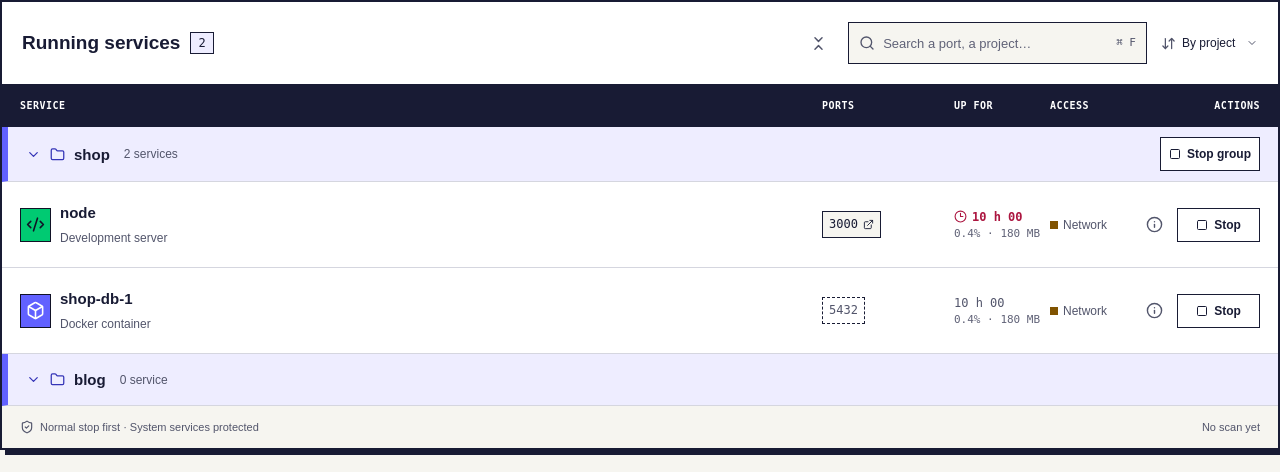
Test: Groupe de projet › replie et déplie un groupe, puis tous les groupes
Expected: the button "shop-db-1" is shown, [60, 288, 810, 309]
Click the button "shop 2 services" at (92, 154), box [26, 146, 1151, 162]
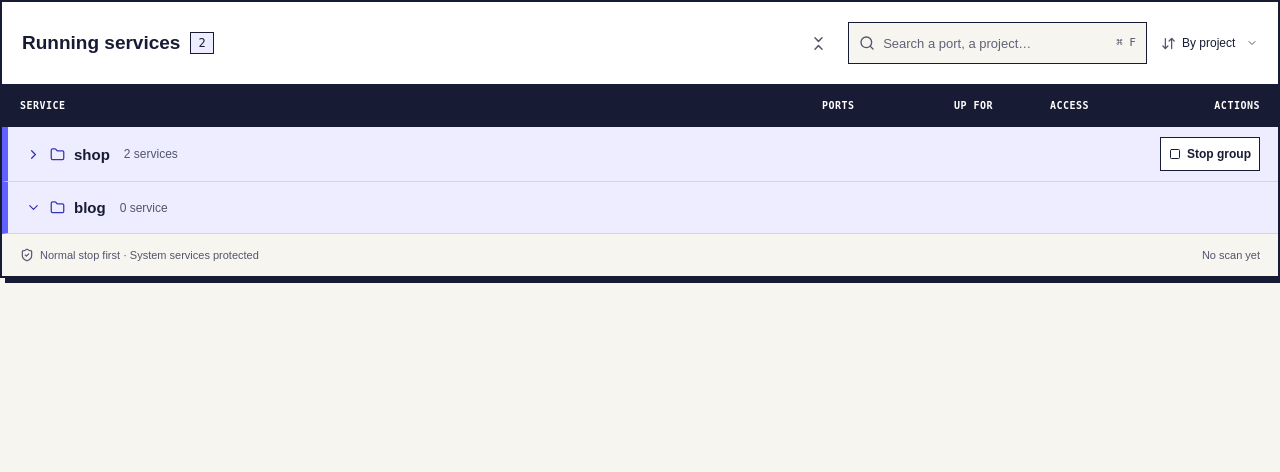
Now the button "shop 2 services" is collapsed, box [26, 146, 1151, 162]
Now the button "shop-db-1" is gone
Click the button named "Collapse all groups" at (818, 43), box [802, 26, 834, 60]
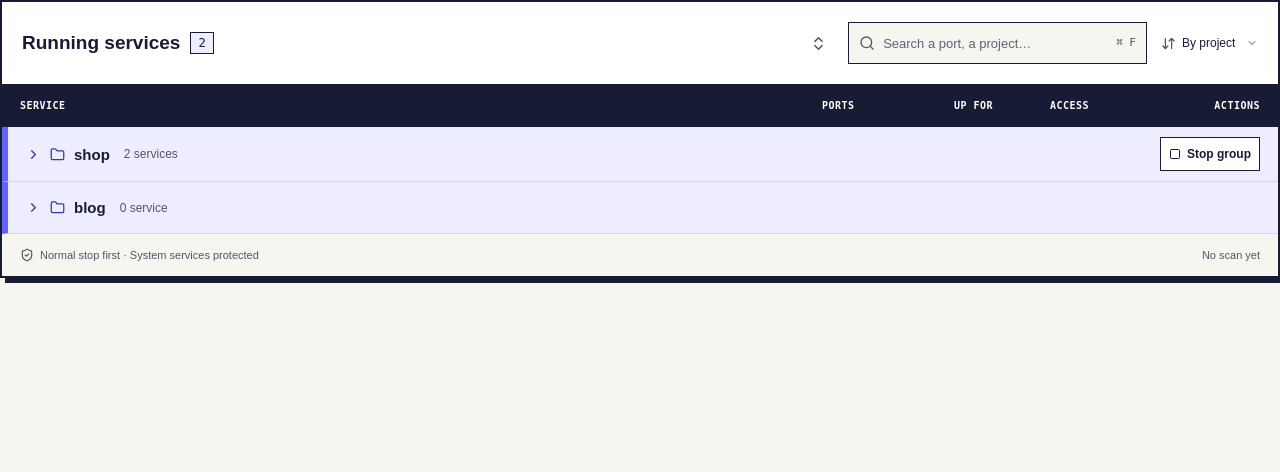
Expected: the button "shop-db-1" is not shown
Click the button named "Expand all groups" at (818, 43), box [802, 26, 834, 60]
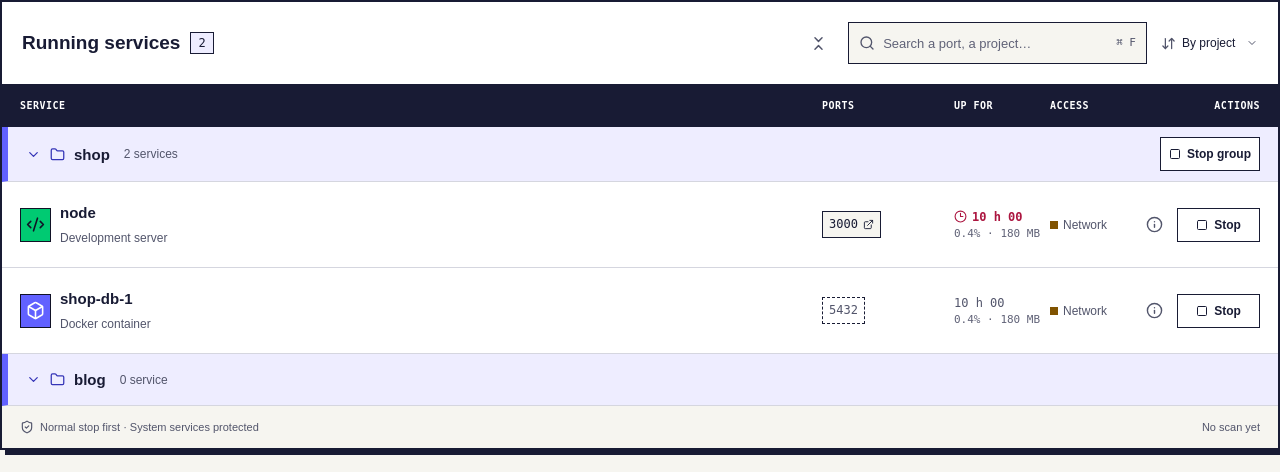
Now the button "shop-db-1" is shown, box [60, 288, 810, 309]
